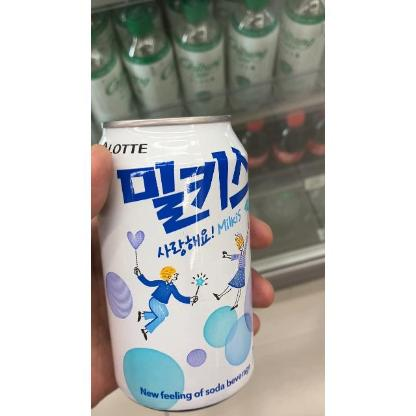Can: (96, 116, 256, 416)
